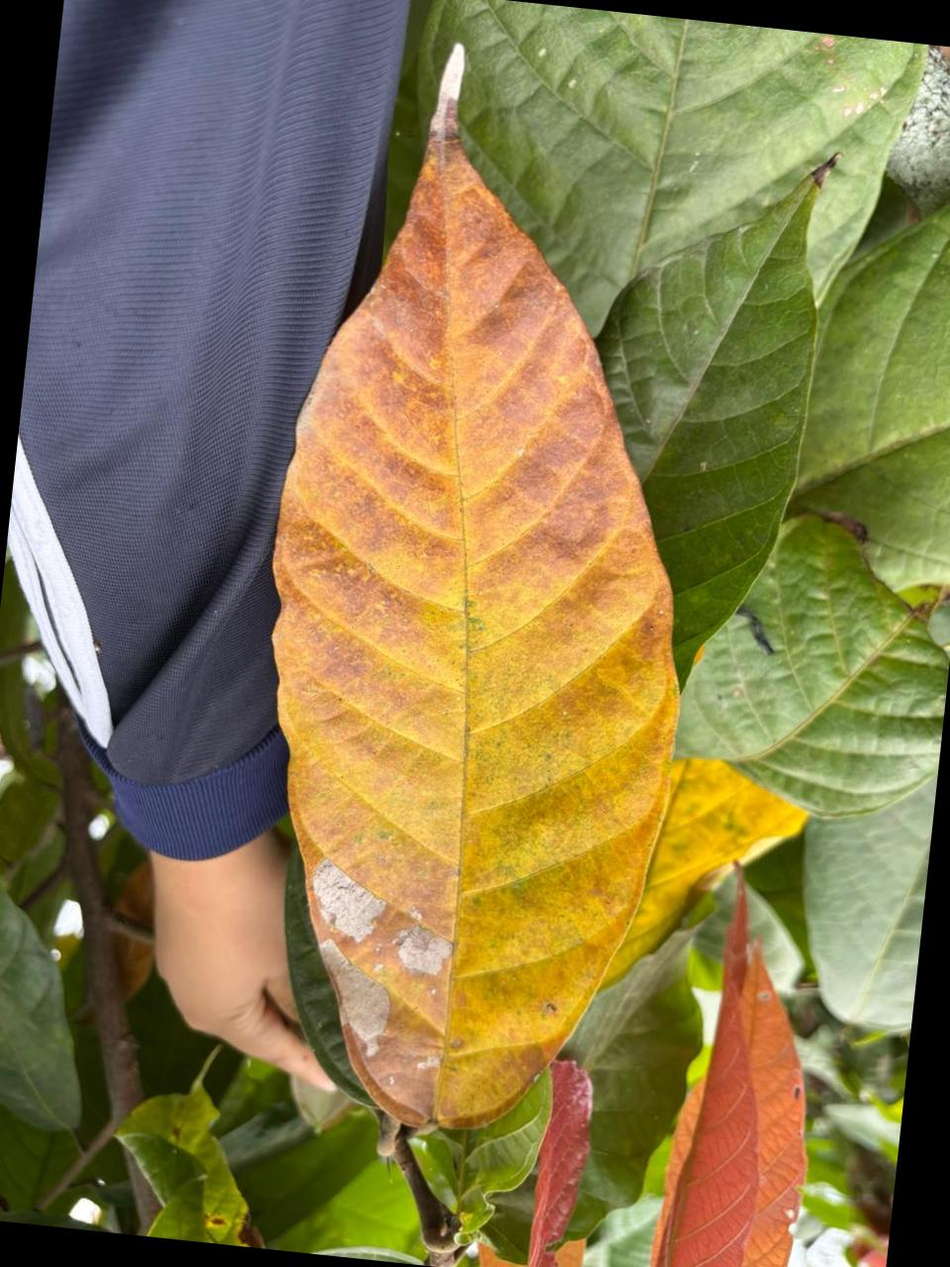Fosforo: (273, 46, 678, 1128)
